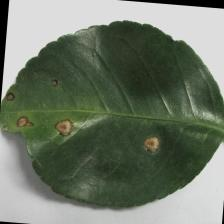canker: (9, 81, 166, 160)
